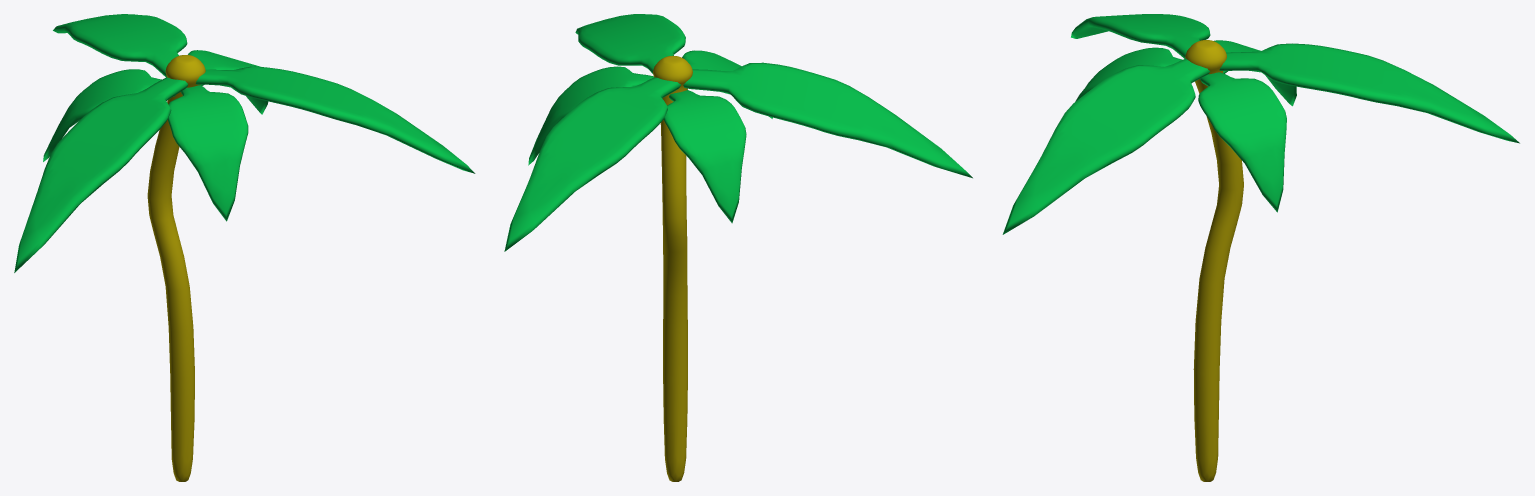
Rendered from palm tree 3.fbx.
3 renders of one model, left to right at view 1: azimuth 30°, elevation 25°; view 2: azimuth 150°, elevation 25°; view 3: azimuth 270°, elevation 25°, orthographic. The views are drawn at different scales.
Visible parts, largest first — view 1: pCylinder2; view 2: pCylinder2; view 3: pCylinder2.
Part boxes in pixels (x1,y1,x2,y2): pCylinder2: [14, 14, 475, 481]; pCylinder2: [504, 14, 972, 481]; pCylinder2: [1002, 14, 1519, 481].
Size of the model in its own units: 35.21 by 33.09 by 35.45.
